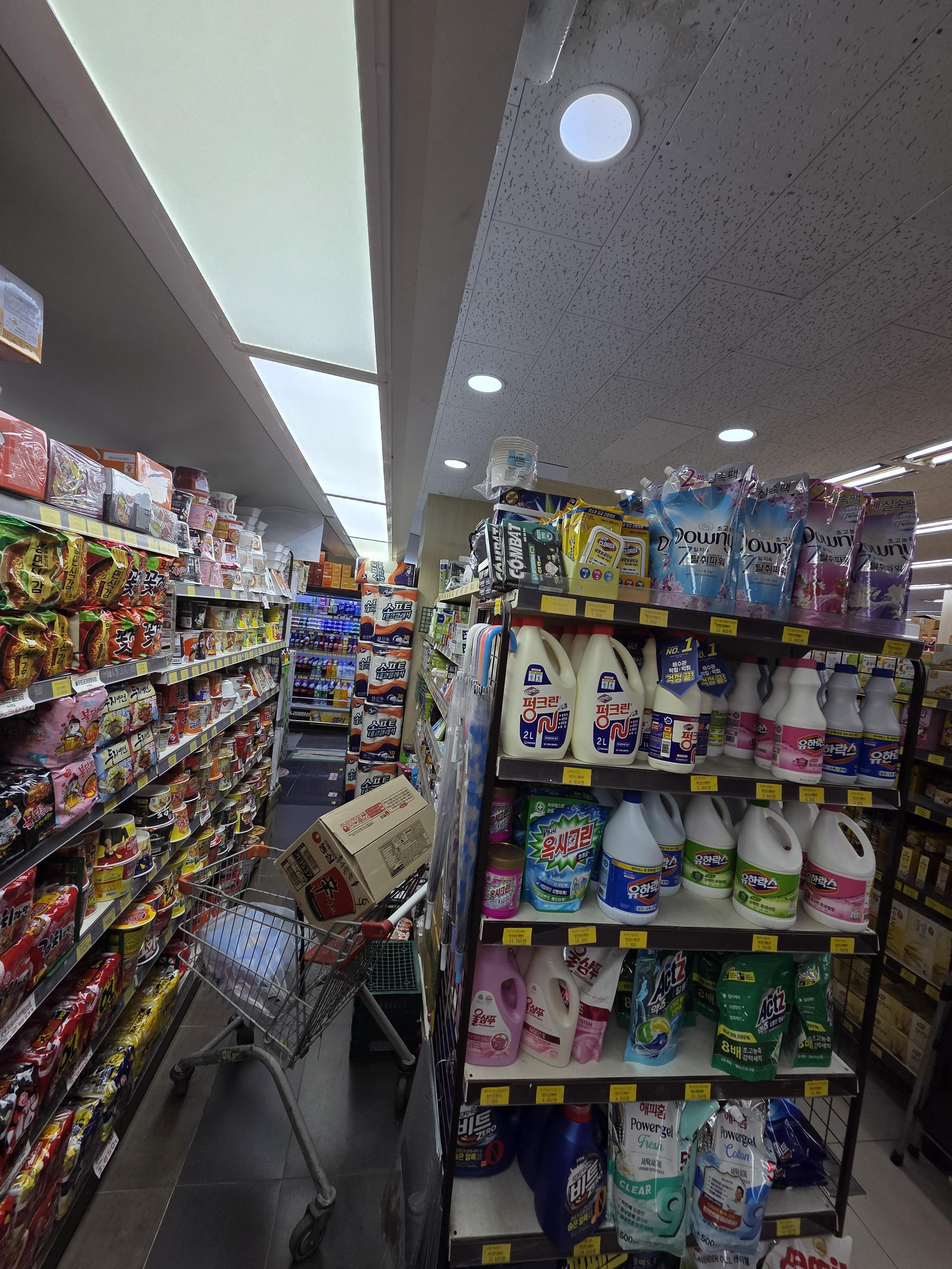fully_cart: (156, 763, 453, 1268)
